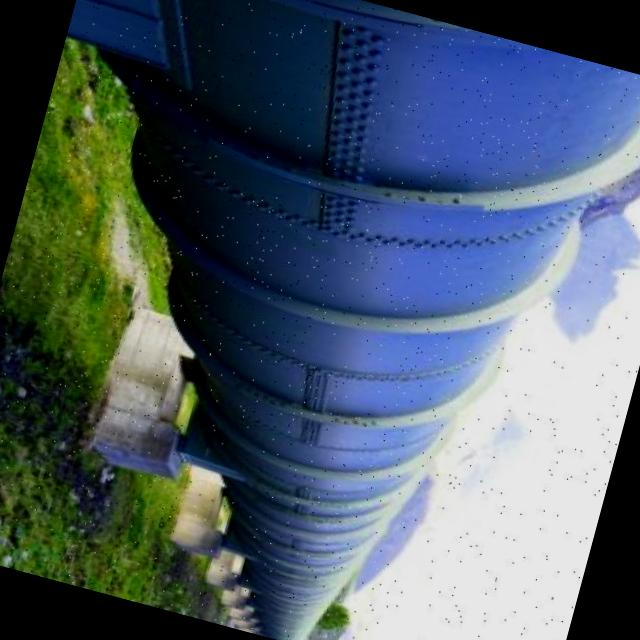gas: (108, 0, 640, 640)
